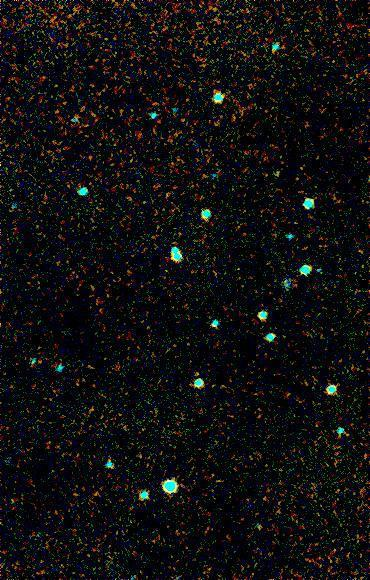star: (181, 356, 211, 386)
